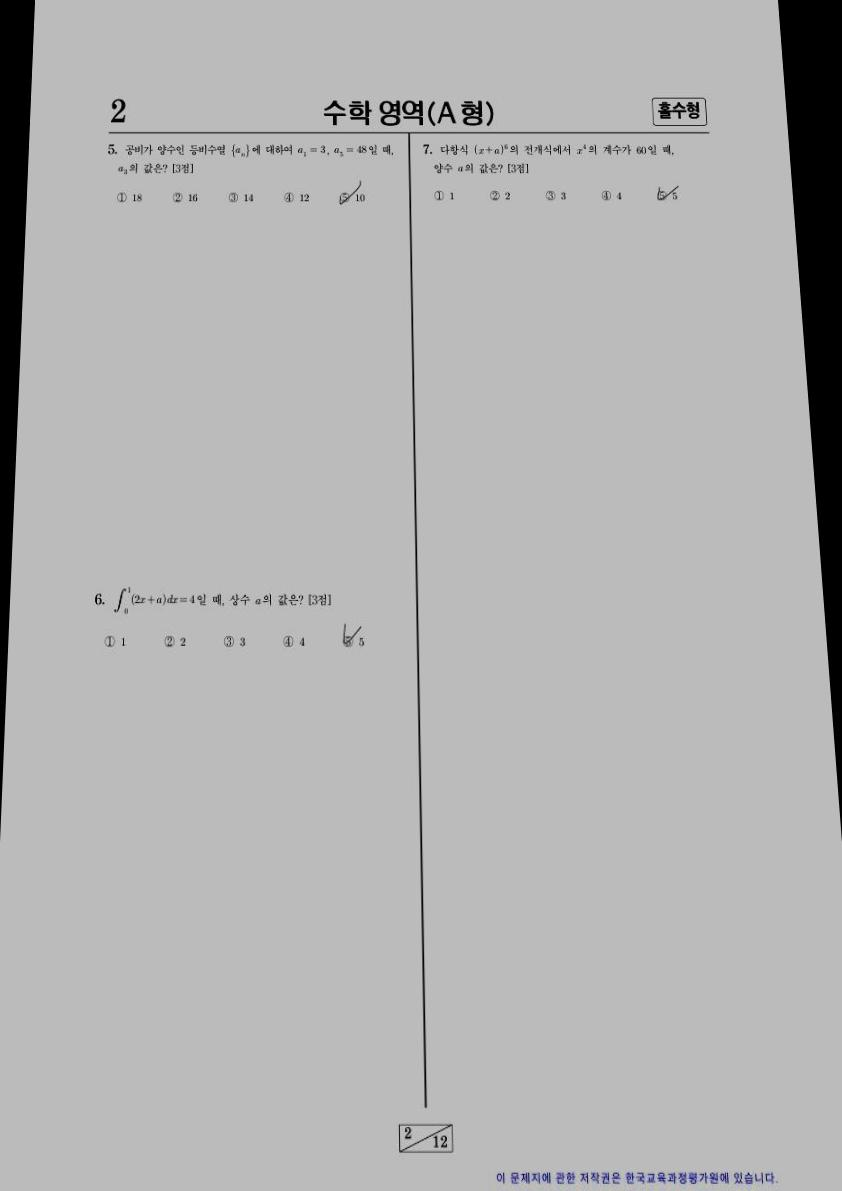question: (77, 579, 383, 671), (97, 136, 401, 224), (409, 132, 695, 220)
